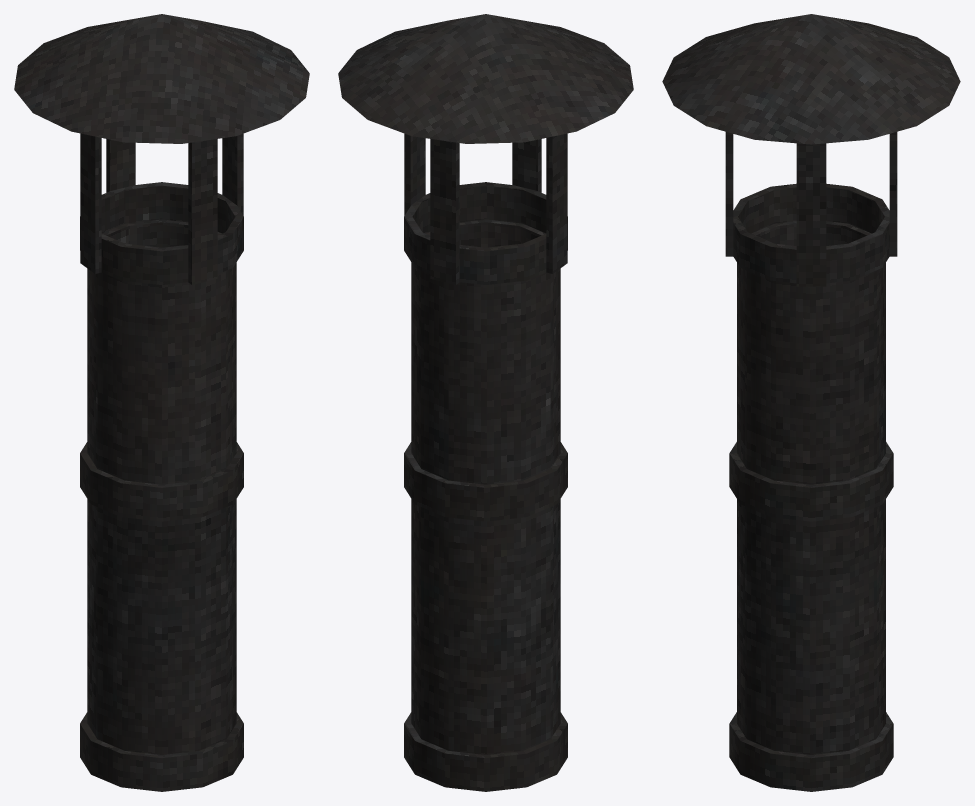
File: chimney_a_1.glb
The picture shows the model from 3 angles, left to right: view 1: azimuth 30°, elevation 25°; view 2: azimuth 150°, elevation 25°; view 3: azimuth 270°, elevation 25°; orthographic projection.
Visible parts, largest first — view 1: chimney_a_1; view 2: chimney_a_1; view 3: chimney_a_1.
Part boxes in pixels (box(x1,y1,x2,y2)): chimney_a_1: box(14, 14, 309, 791); chimney_a_1: box(338, 14, 633, 791); chimney_a_1: box(662, 14, 960, 791).
Bounding box in the file's own units: 0.4 × 1.1 × 0.4.
Materials: 1 (1 with a texture image).
